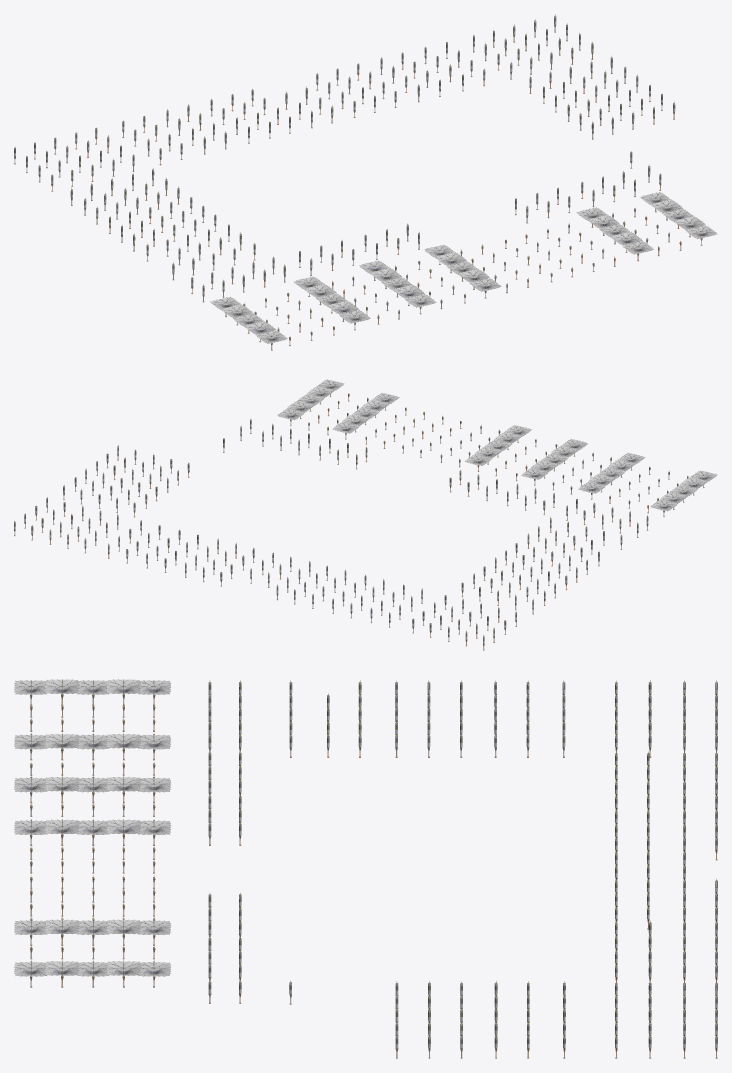
File: haram-canopies.glb
3 views of the same model, one above another, from view 1: azimuth 30°, elevation 25°; view 2: azimuth 150°, elevation 25°; view 3: azimuth 270°, elevation 25° (orthographic). The views are drawn at different scales.
Bounding box in the file's own units: 633 × 19.91 × 522.
Materials: 10 (1 with a texture image).
